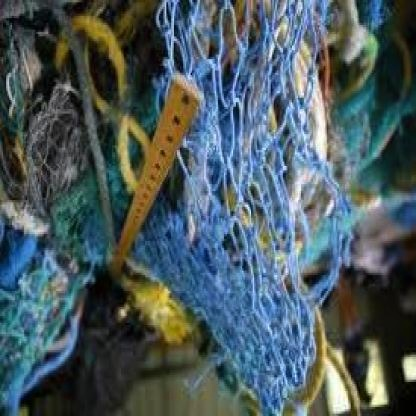net: (164, 3, 332, 412)
